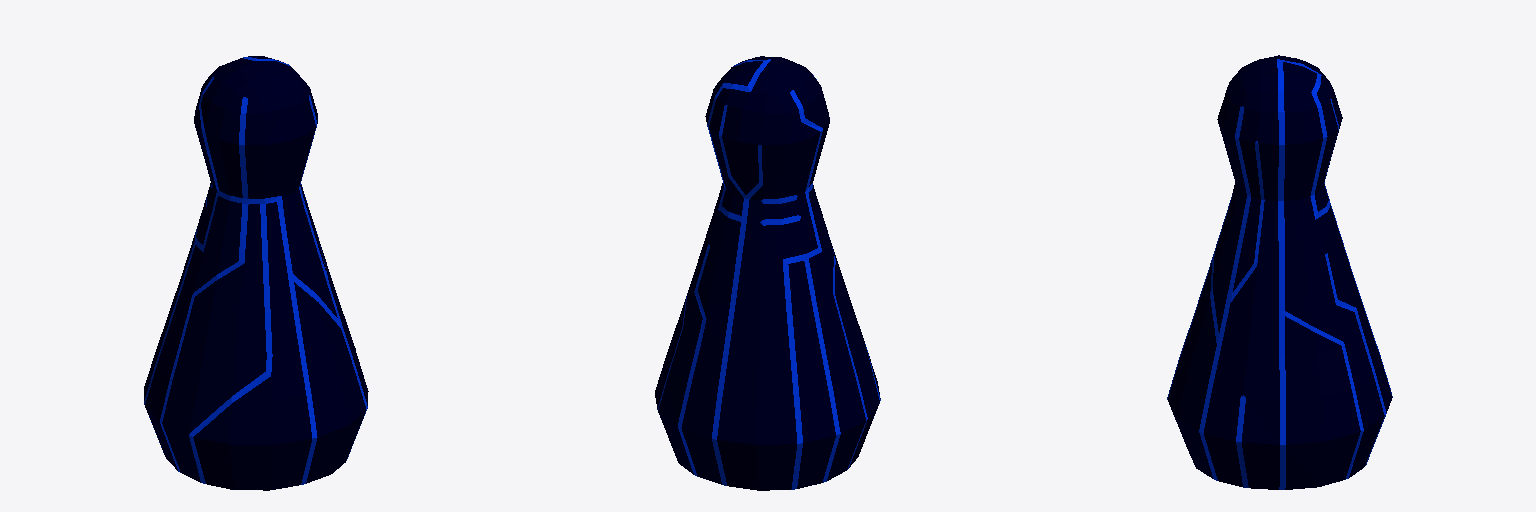
File: chipnavyblue.obj
3 views of the same model, side by side, from view 1: azimuth 30°, elevation 25°; view 2: azimuth 150°, elevation 25°; view 3: azimuth 270°, elevation 25° (orthographic).
Parts seen in each view (by area): view 1: navy_blue_Куб.044; view 2: navy_blue_Куб.044; view 3: navy_blue_Куб.044.
Part boxes in pixels (left/top/right/bottom): navy_blue_Куб.044: left=144, top=56, right=368, bottom=490; navy_blue_Куб.044: left=655, top=56, right=880, bottom=490; navy_blue_Куб.044: left=1167, top=55, right=1392, bottom=489.
Size of the model in its own units: 0.2361 by 0.4544 by 0.2366.